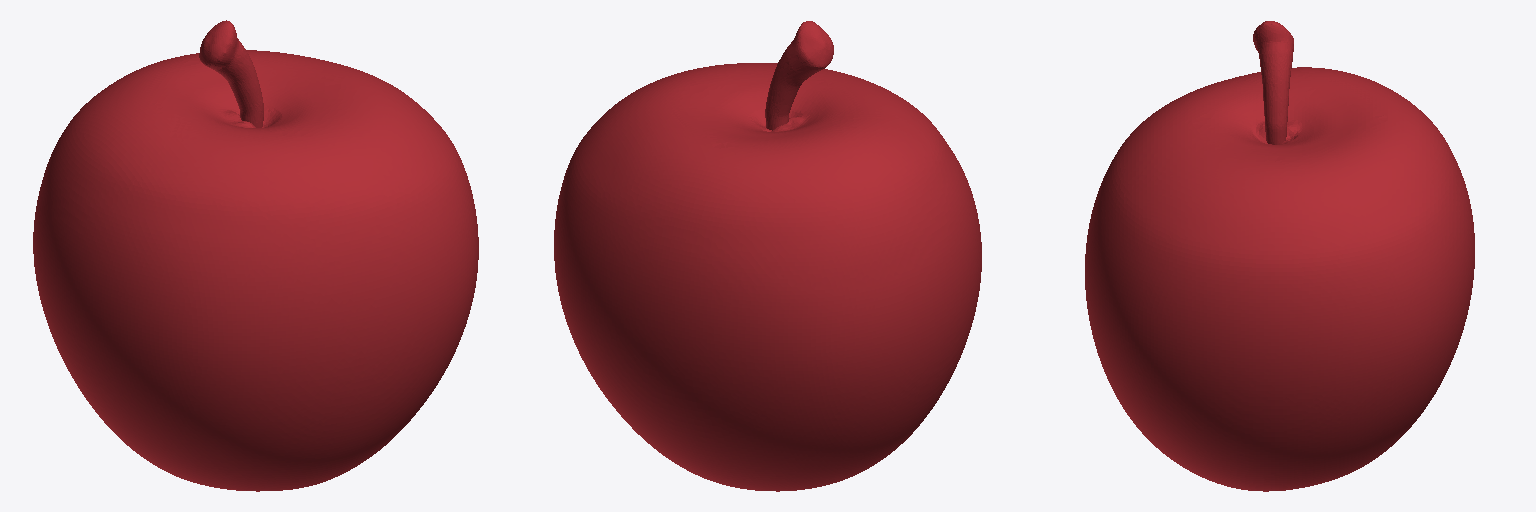
URDF robot description (object):
<?xml version="1.0"?>
<robot name="object">
  <link name="object">
    <visual>
      <origin xyz="0.0 0.0 0.0"/>
      <geometry>
        <mesh filename="apple.stl" scale="0.833333 0.833333 0.833333"/>
      </geometry>
      <material name="auto_color">
        <color rgba="0.7 0.22 0.25 1.0"/>
      </material>
    </visual>
    <collision>
      <origin xyz="0.0 0.0 0.0"/>
      <geometry>
        <mesh filename="apple.stl" scale="0.833333 0.833333 0.833333"/>
      </geometry>
    </collision>
  </link>
</robot>
    
                    

--- Render facts (derived) ---
Views: 3 orthographic renders of the robot side by side, from view 1: azimuth 30°, elevation 25°; view 2: azimuth 150°, elevation 25°; view 3: azimuth 270°, elevation 25°.
Robot: object — 1 links, 0 joints (none); root link object; default pose: all joints at 0.
Links seen in each view (by area): view 1: object; view 2: object; view 3: object.
Boxes of the visible links, bbox=[...] form: object: bbox=[33, 20, 478, 491]; object: bbox=[554, 21, 981, 491]; object: bbox=[1085, 21, 1474, 491].
Size in the robot's own frame: 0.0648 by 0.0612 by 0.0736 metres.
1 mesh visuals loaded from 1 distinct referenced files (1 binary STL).
